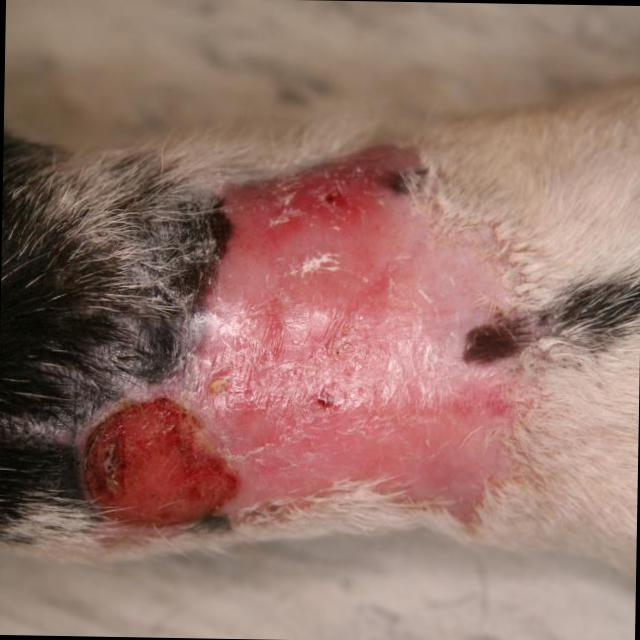allergic dermatitis: (68, 148, 534, 527)
